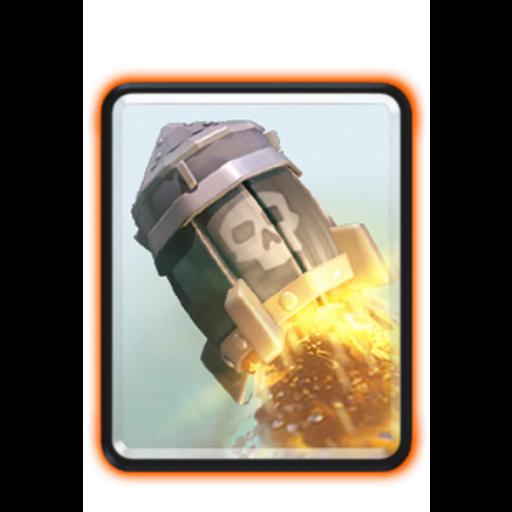rocket: (116, 100, 400, 458)
